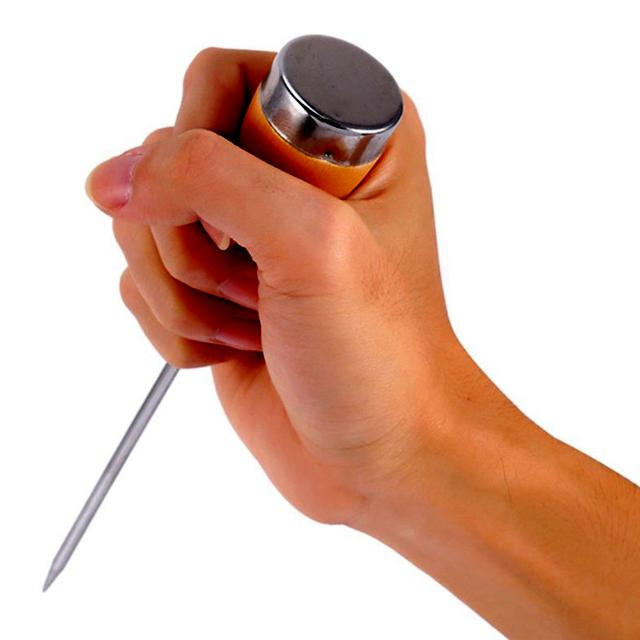ice pick: (39, 34, 407, 592)
